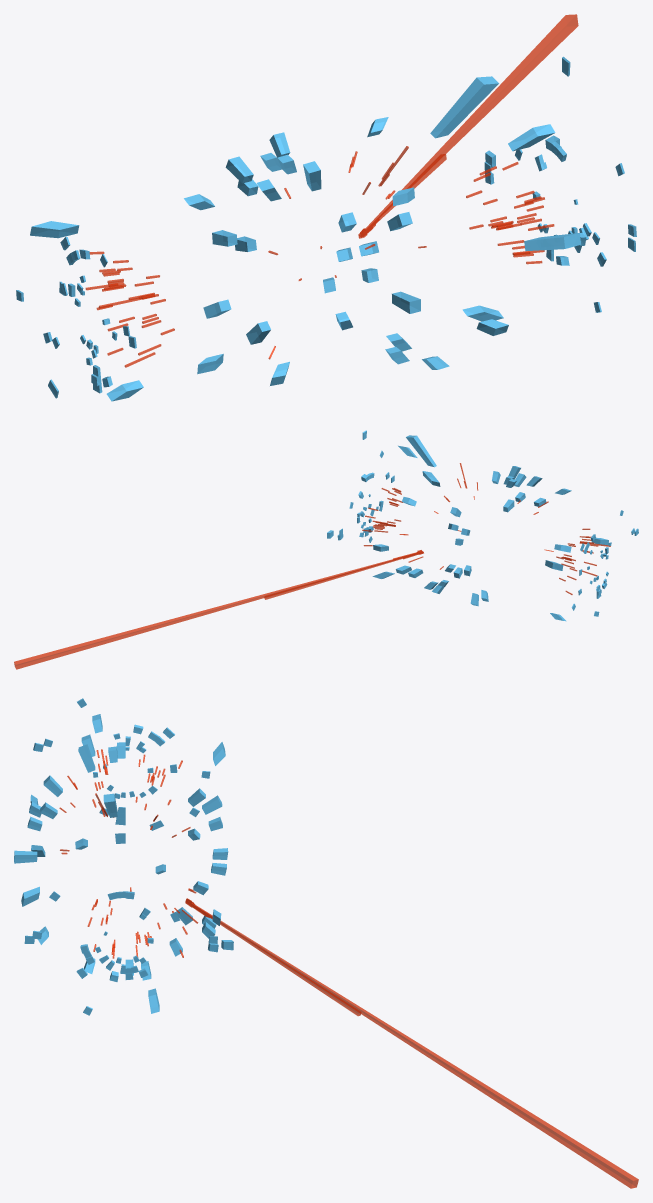
Rendered from Event_419990632_calo.fbx.
The picture shows the model from 3 angles, top to bottom: view 1: azimuth 30°, elevation 25°; view 2: azimuth 150°, elevation 25°; view 3: azimuth 270°, elevation 25°; orthographic projection. The views are drawn at different scales.
Parts seen in each view (by area): view 1: Model; view 2: Model; view 3: Model.
Boxes of the visible parts, x1,y1,x2,y2 form: Model: (16, 14, 636, 401); Model: (14, 430, 638, 669); Model: (14, 698, 638, 1188).
Size of the model in its own units: 37.82 by 13.42 by 32.53.
